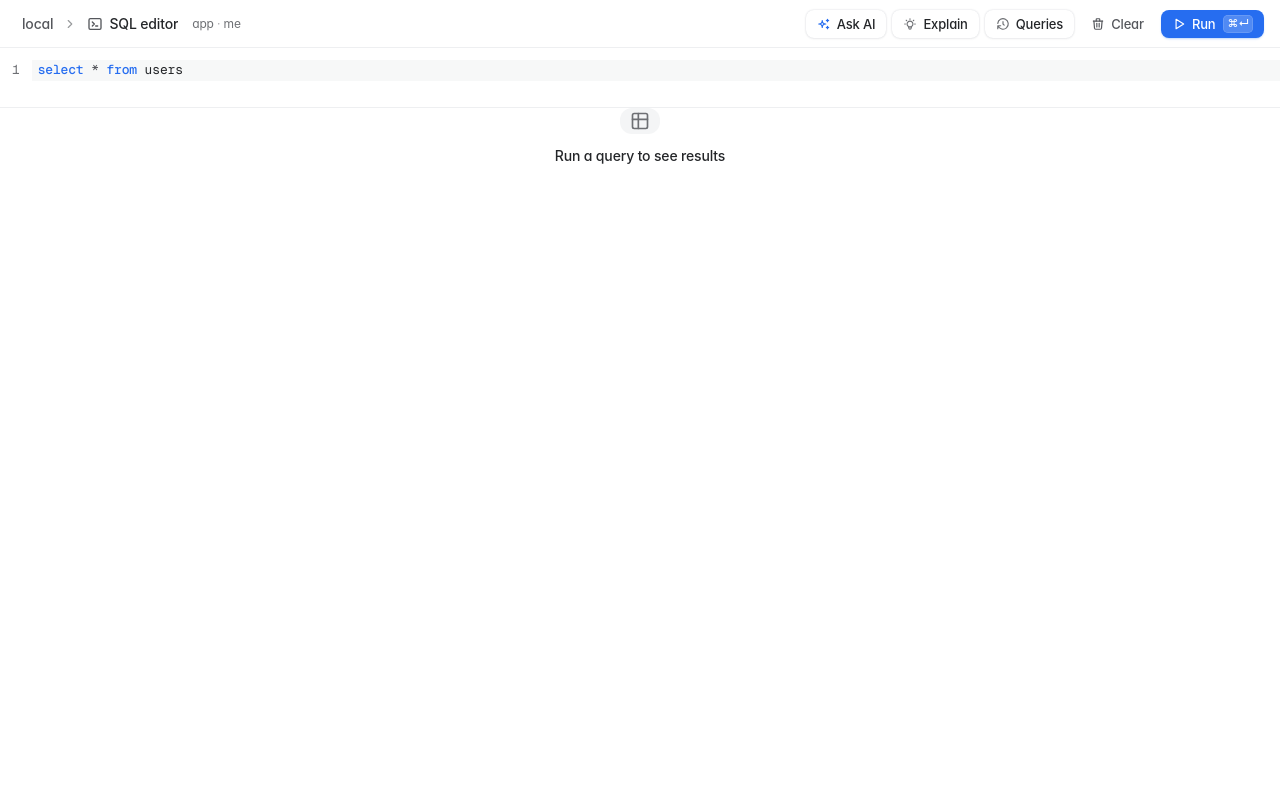
Test case: asking AI about the query in the editor › edits the existing query by default, sending it along
expect the element with test id "sql-editor" is shown: met, box [0,48,1279,107]
Click the button "Ask AI".
click(846, 24)  # box [806,10,886,38]
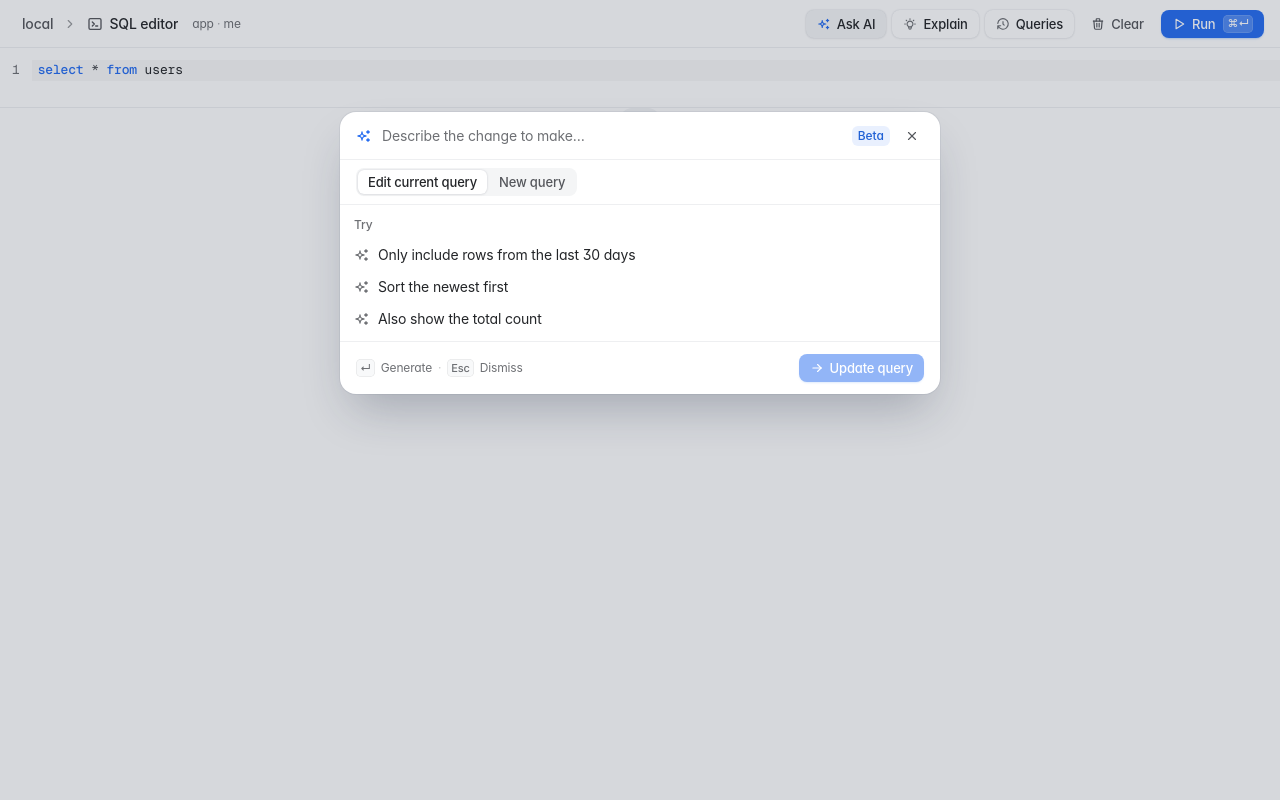
Type "only five" into the field with placeholder "Describe the change to make…".
click(612, 136); type("only five")  # box [382,126,842,146]
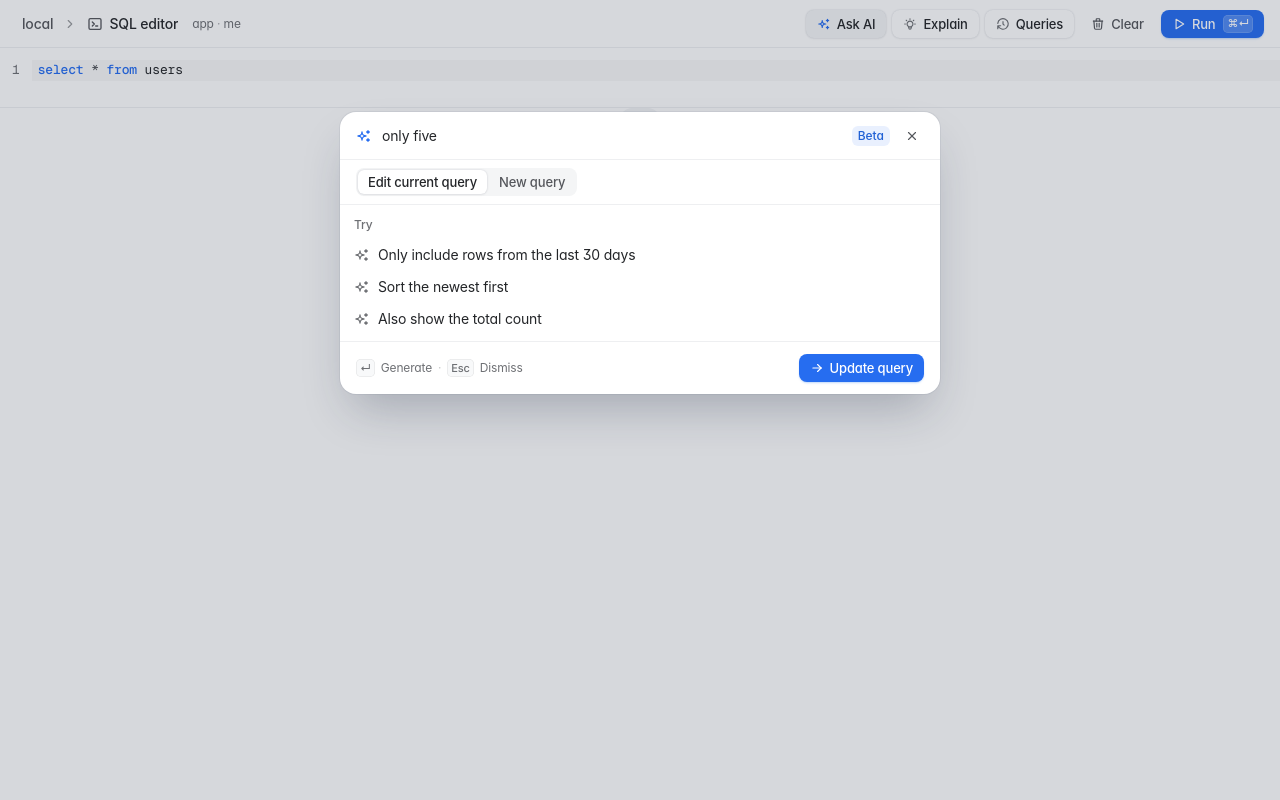
Press Enter in the field with placeholder "Describe the change to make…", box [382,126,842,146]
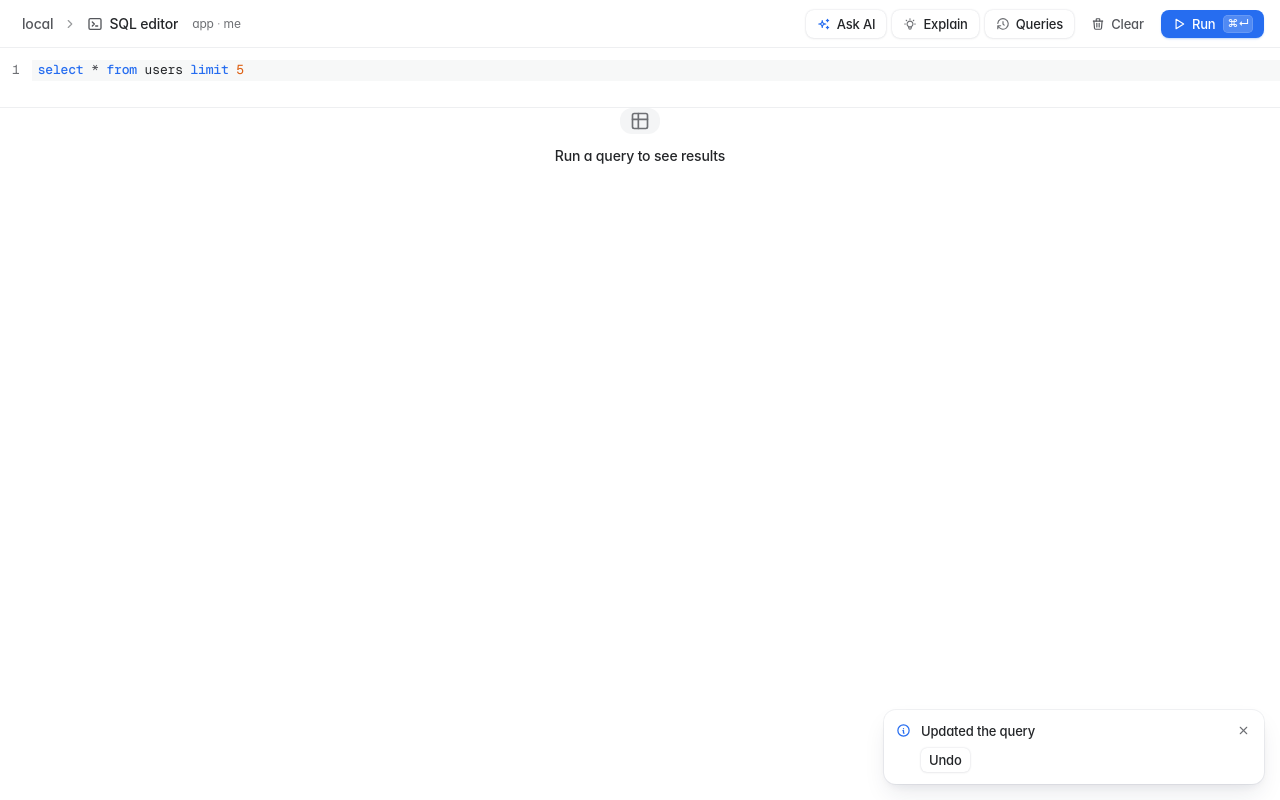
expect the text box labelled "select * from users limit 5" is shown: met, box [32,60,1279,81]
